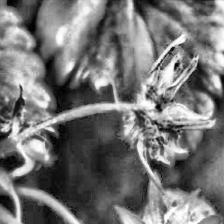Gray Mold: (87, 33, 216, 196)
